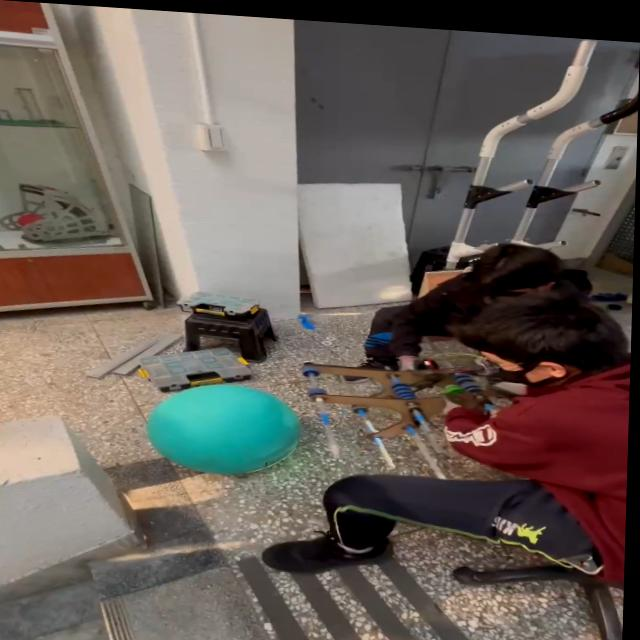ALGAE: (142, 378, 304, 481)
